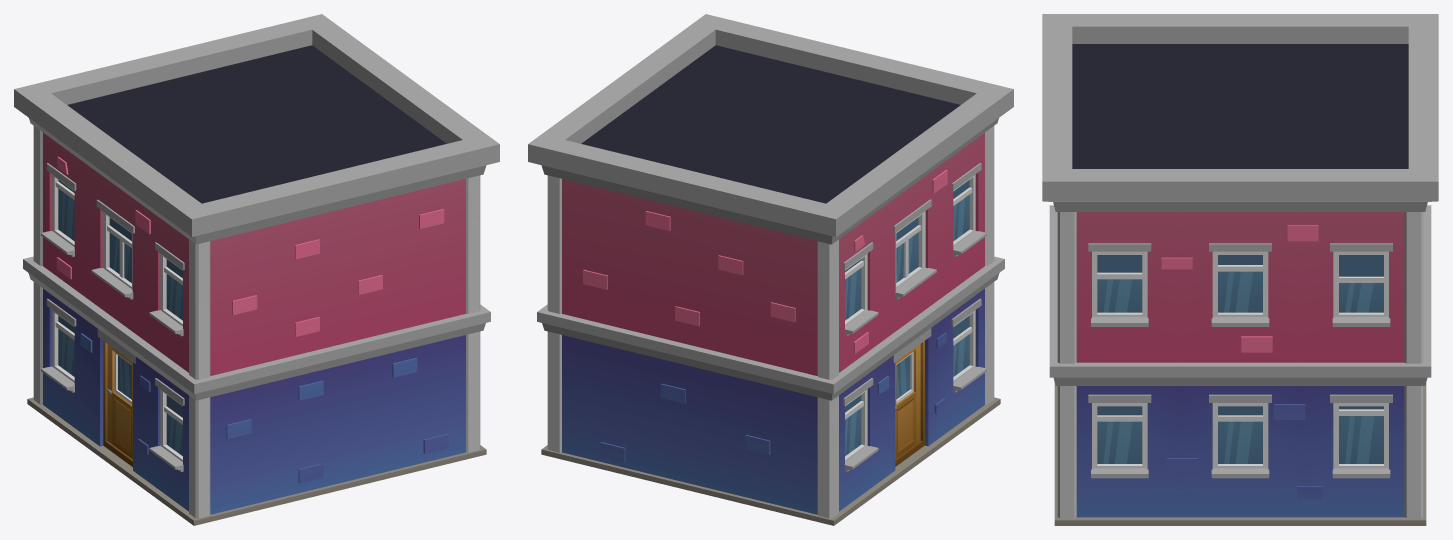
File: Building_2_3_B.fbx
The picture shows the model from 3 angles, left to right: view 1: azimuth 30°, elevation 25°; view 2: azimuth 150°, elevation 25°; view 3: azimuth 270°, elevation 25°; orthographic projection. The views are drawn at different scales.
Visible parts, largest first — view 1: Building_2_3_B; view 2: Building_2_3_B; view 3: Building_2_3_B.
Part boxes in pixels (x1=…): Building_2_3_B: x1=14, y1=14, x2=499, y2=525; Building_2_3_B: x1=528, y1=14, x2=1013, y2=525; Building_2_3_B: x1=1042, y1=14, x2=1438, y2=525.
Bounding box in the file's own units: 620 × 602 × 620.
